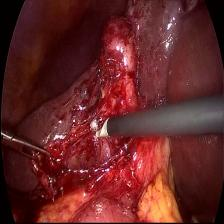Grasper: (0, 122, 56, 176)
Hook: (86, 114, 112, 145)
